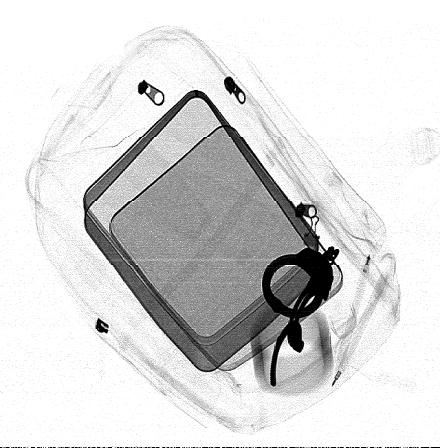HandCuffs: (259, 245, 341, 388)
